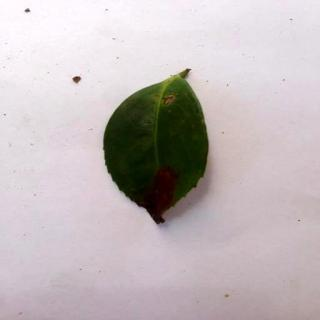Algal Leaf: (107, 69, 210, 225)
